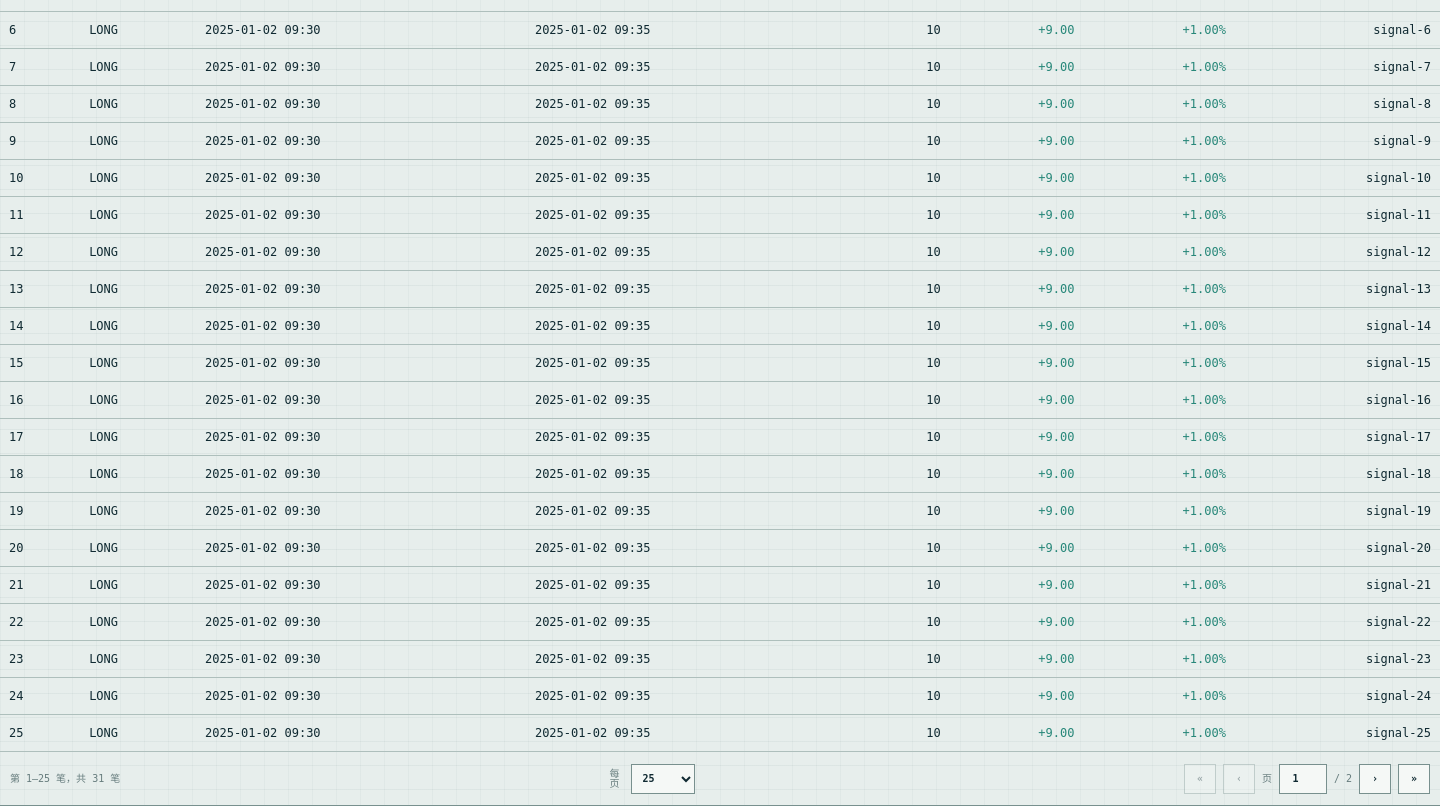
Test: TradeTable pagination › renders 25 rows at a time and navigates to the next page
(page scrolled)
Check: the text "signal-26" is not shown
Click the button named "下一页" at (1375, 779), box left=1359, top=764, right=1391, bottom=794
(page scrolled)
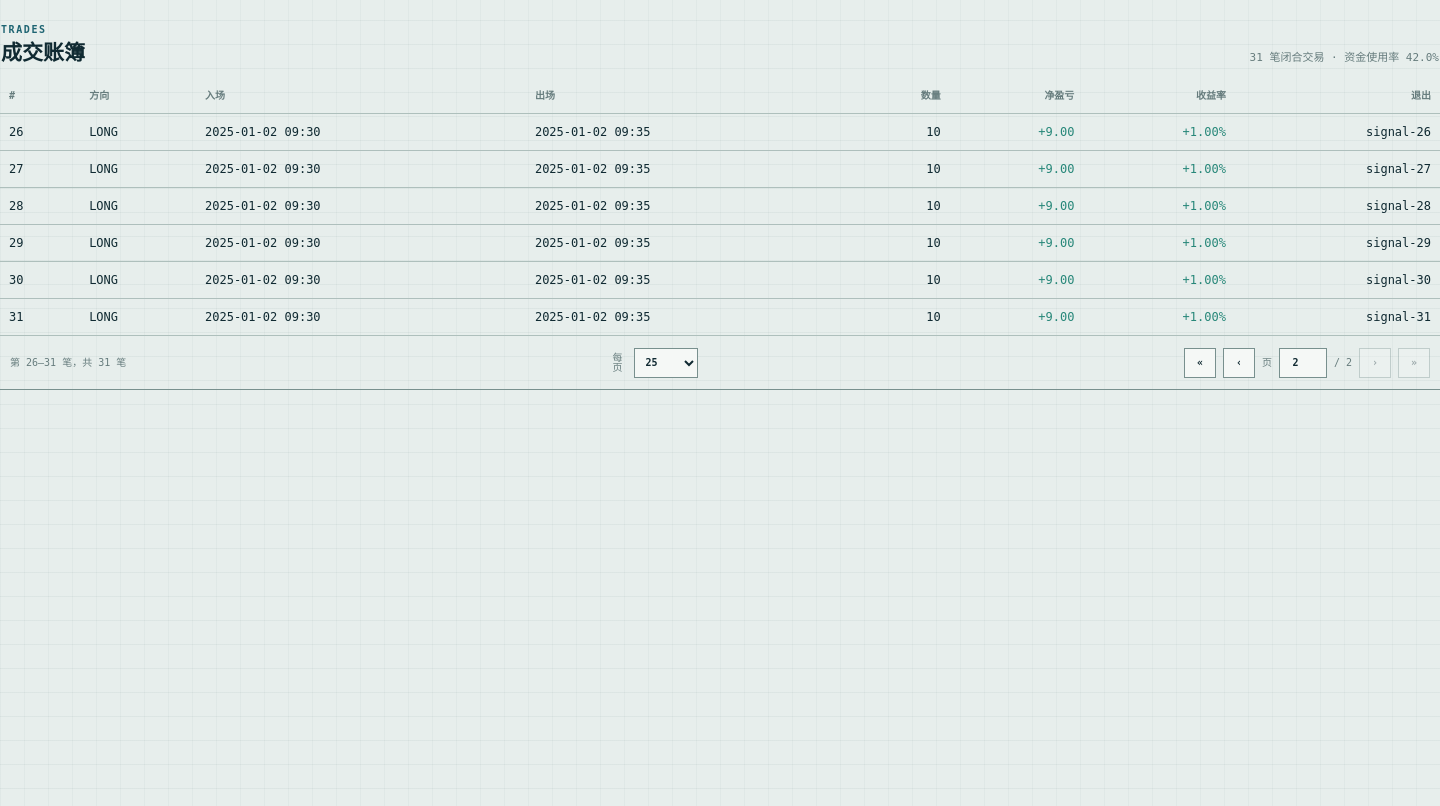
Check: the text "signal-1" is gone
Check: the text "signal-26" is shown, box left=1235, top=114, right=1439, bottom=151
